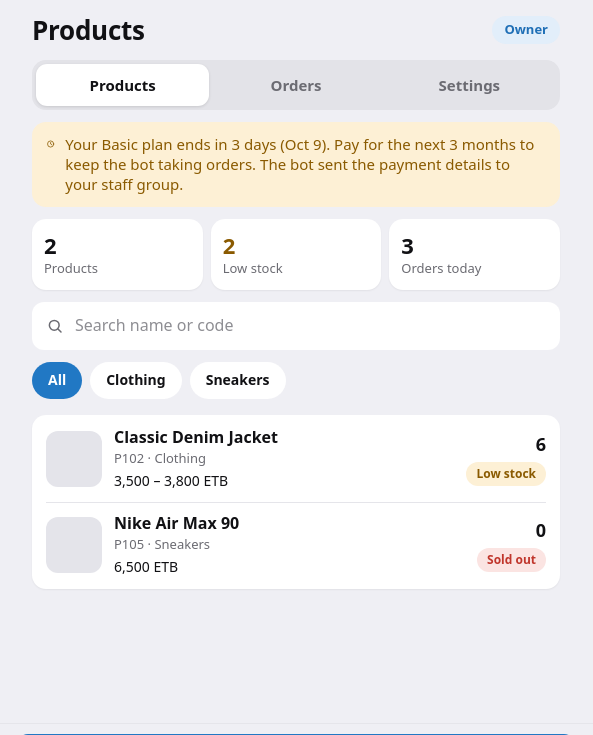
the shop owner › sees a banner in the last week, and the plan in Settings
The image size is (593, 735).
Expected: the text "Your Basic plan ends in 3 days" is shown, [65,134,534,174]
Click the link "Settings". click: x=469, y=85
box: [438,75,500,95]
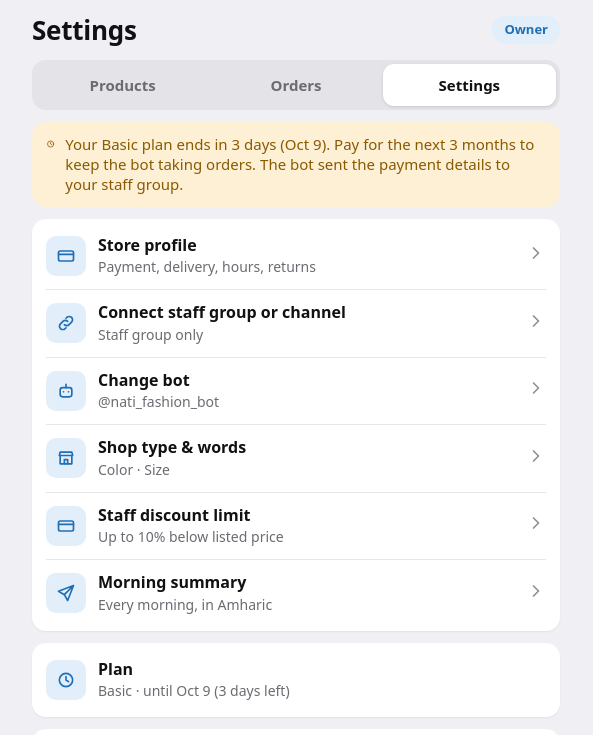
Now the text "Basic · until Oct 9 (3 days left)" is shown, box [98,681,290,700]
